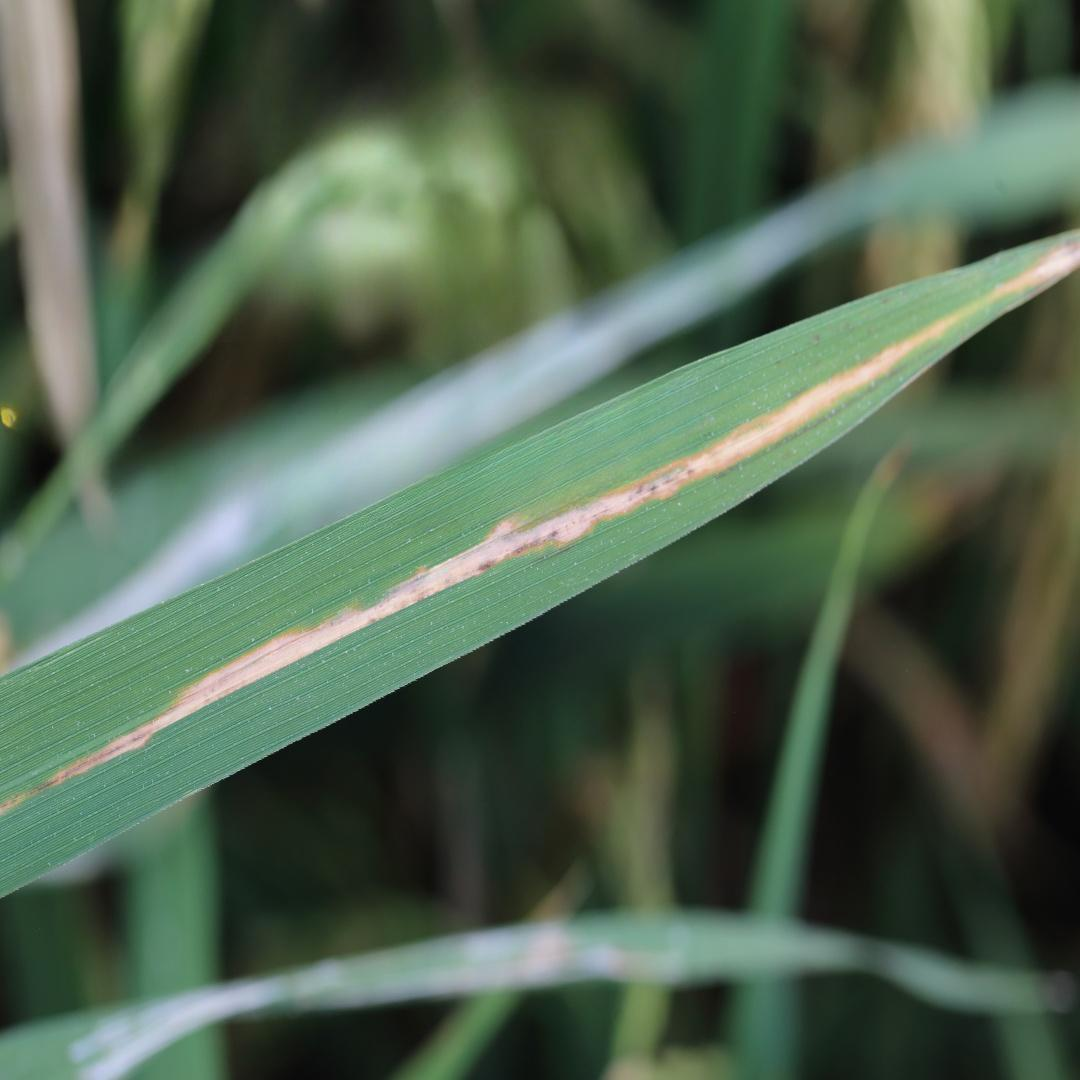BLB: (0, 238, 1078, 812)
LEAF: (0, 233, 1079, 895)
